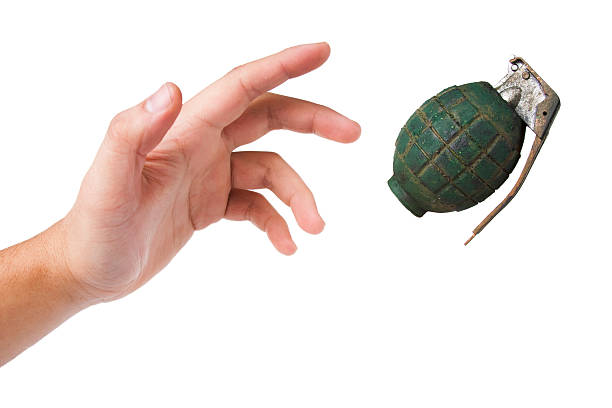e1: (388, 56, 560, 241)
